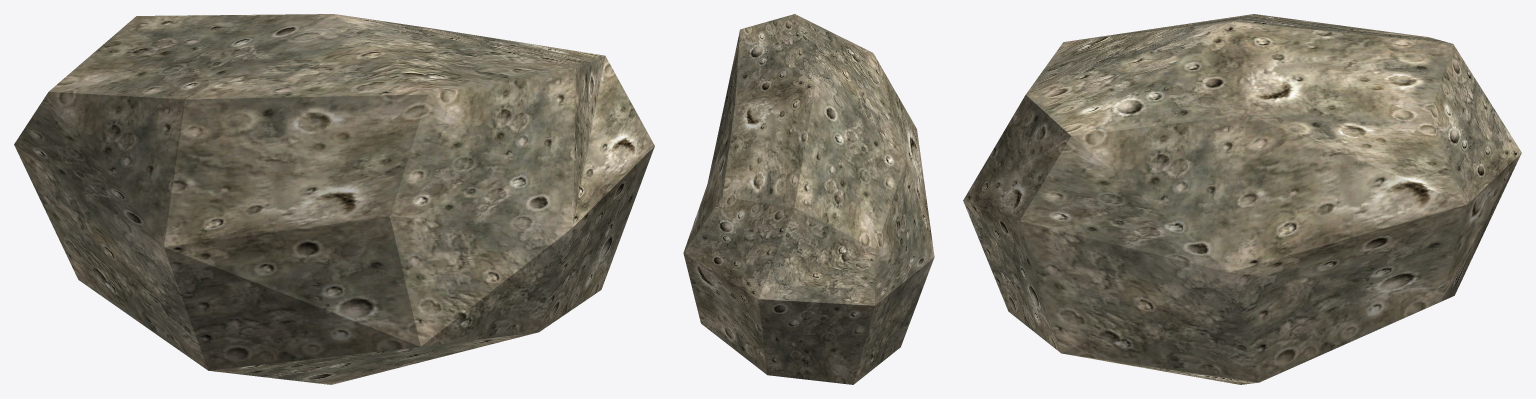
File: asteroid_all_small_02_l1.fbx
3 renders of one model, left to right at view 1: azimuth 30°, elevation 25°; view 2: azimuth 150°, elevation 25°; view 3: azimuth 270°, elevation 25°, orthographic. The views are drawn at different scales.
Parts seen in each view (by area): view 1: mesh_node; view 2: mesh_node; view 3: mesh_node.
Part boxes in pixels (x1,y1,x2,y2): mesh_node: (14, 14, 654, 384); mesh_node: (683, 14, 934, 384); mesh_node: (963, 14, 1521, 384).
Size of the model in its own units: 23.49 by 20.34 by 28.38.
